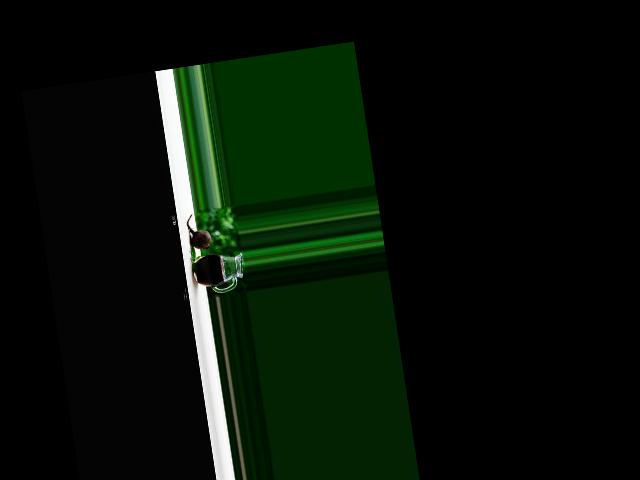beet: (185, 212, 212, 251)
